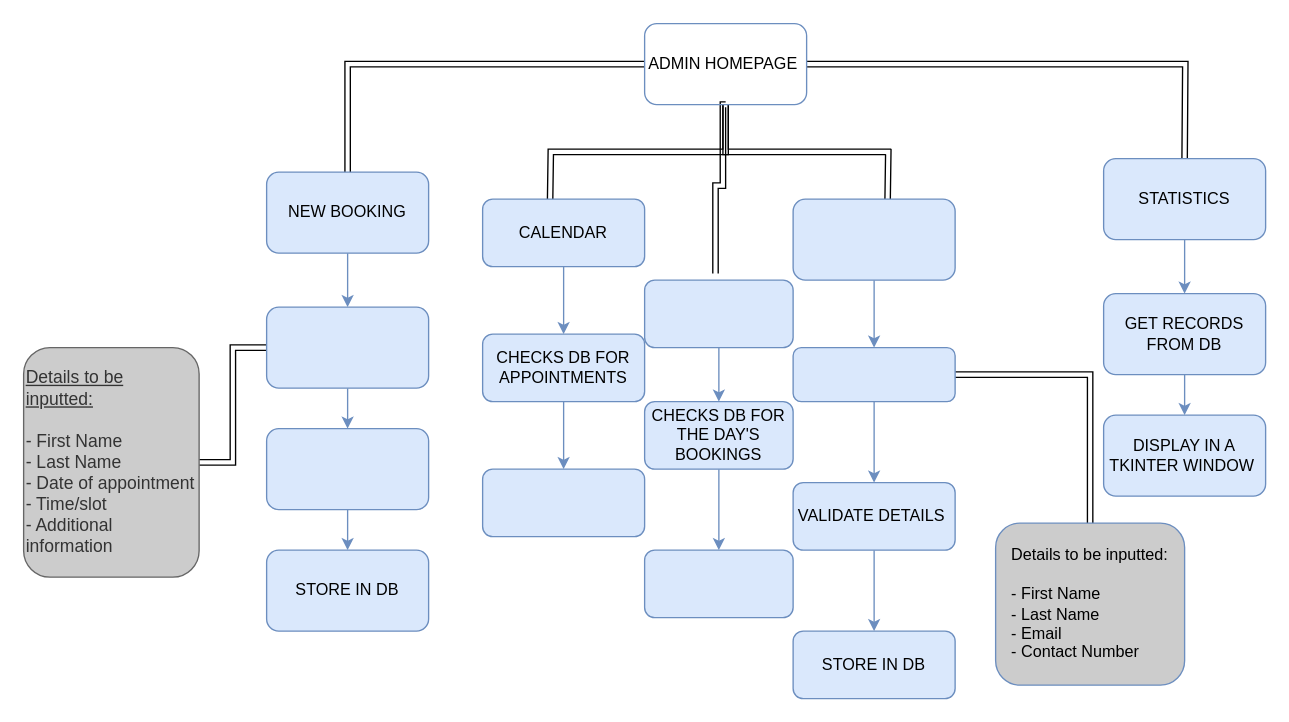
Image size: 1289x722. Some labels were removed from this diagram. Each missing label, with the centre of its shape:
DISPLAYS CALENDAR IN A TKINTER WINDOW: the point at 563,502
DISPLAYS THE BOOKINGS IN A TABLE: the point at 718,583
INPUT VALUES IN A TKINTER FORM: the point at 347,347
INPUT VLUES IN A TKINTER FORM: the point at 873,374
NEW CLIENT: the point at 873,239
TODAY'S BOOKING: the point at 718,313
VALIDATE AND CHECK FOR AVAILABILITY: the point at 347,468
